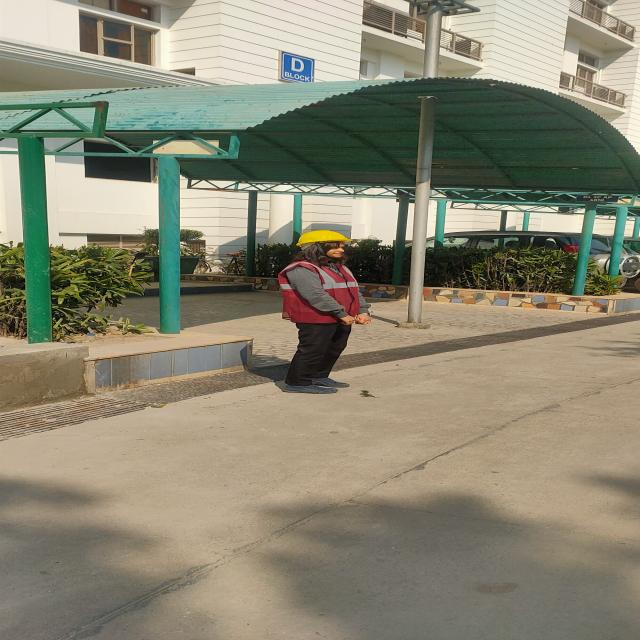safe: (277, 231, 371, 393)
